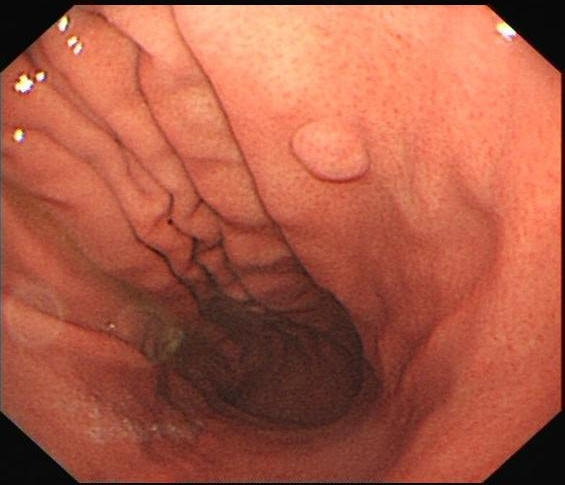Polyp: (283, 114, 371, 198)
